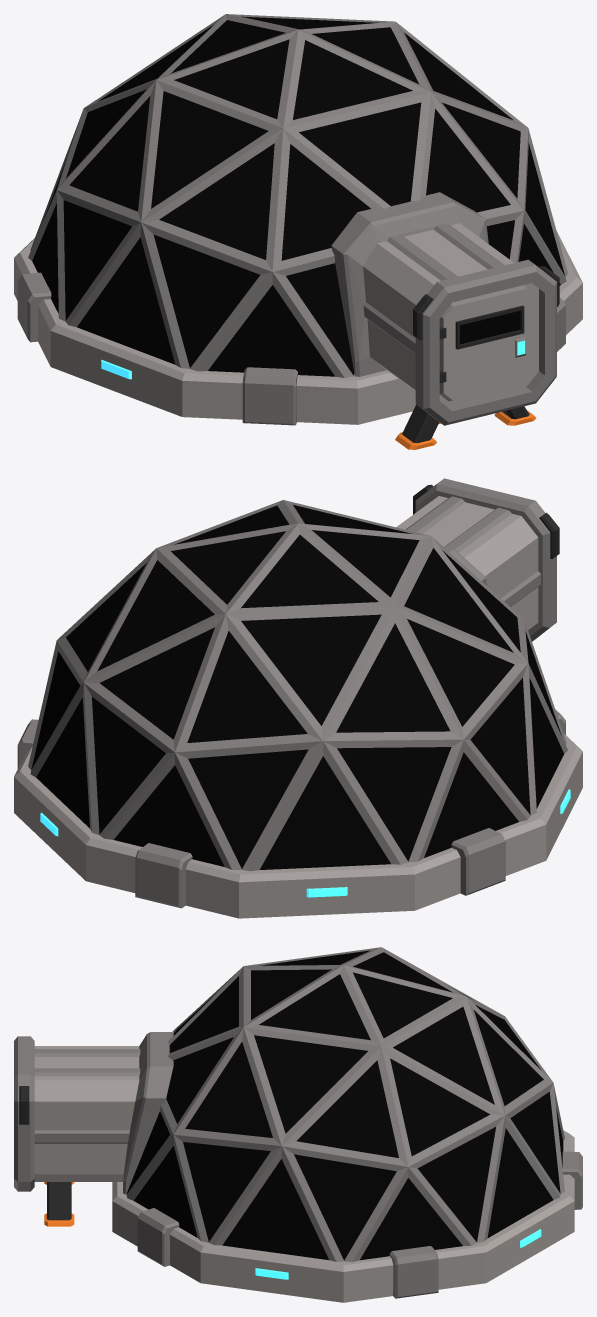
File: scifi-planet-base-greenhouse.fbx
3 renders of one model, top to bottom at view 1: azimuth 30°, elevation 25°; view 2: azimuth 150°, elevation 25°; view 3: azimuth 270°, elevation 25°, orthographic. The views are drawn at different scales.
Parts seen in each view (by area): view 1: scifi_planet_base_greenhouse; view 2: scifi_planet_base_greenhouse; view 3: scifi_planet_base_greenhouse.
Part boxes in pixels (x1,y1,x2,y2): scifi_planet_base_greenhouse: (14, 14, 582, 449); scifi_planet_base_greenhouse: (14, 478, 582, 918); scifi_planet_base_greenhouse: (14, 947, 582, 1302).
Size of the model in its own units: 1180 by 630 by 1381.
6 materials, 1 textured.
